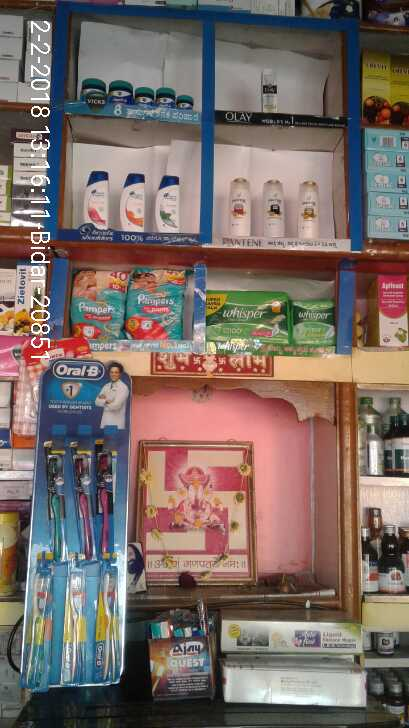beauty: (114, 170, 152, 234), (83, 159, 111, 236), (152, 173, 184, 236), (226, 174, 255, 239), (261, 176, 286, 243), (298, 176, 320, 241), (259, 62, 282, 119)
pharmacy: (202, 284, 290, 346), (126, 259, 188, 337), (70, 269, 128, 341), (32, 559, 58, 690), (68, 442, 95, 568), (93, 446, 120, 558), (284, 296, 340, 348), (65, 558, 87, 689), (44, 434, 66, 564), (97, 566, 118, 688), (78, 74, 108, 106), (106, 72, 135, 105), (153, 84, 174, 109), (134, 83, 154, 107), (175, 92, 196, 114)
